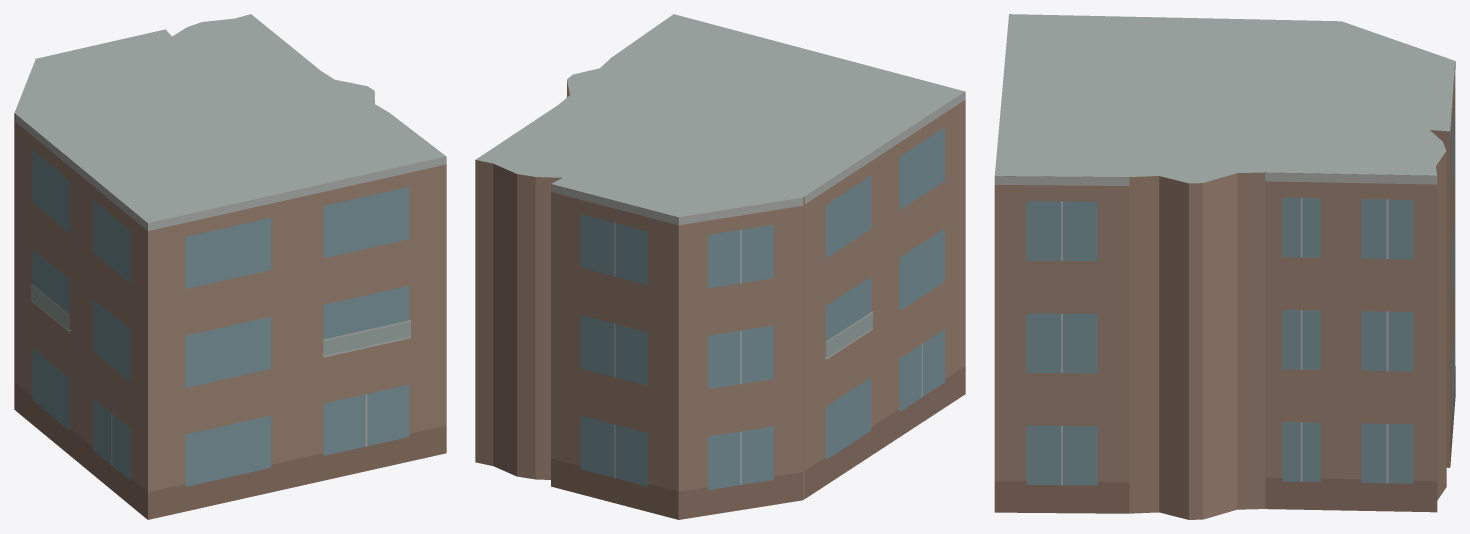
File: survey-upis-32657659.glb
The picture shows the model from 3 angles, left to right: view 1: azimuth 30°, elevation 25°; view 2: azimuth 150°, elevation 25°; view 3: azimuth 270°, elevation 25°; orthographic projection. The views are drawn at different scales.
Visible parts, largest first — view 1: survey-upis-32657659.tmp; view 2: survey-upis-32657659.tmp; view 3: survey-upis-32657659.tmp.
Boxes of the visible parts, x1,y1,x2,y2 form: survey-upis-32657659.tmp: (14,14,446,519); survey-upis-32657659.tmp: (475,14,965,519); survey-upis-32657659.tmp: (994,14,1455,519).
Bounding box in the file's own units: 9.88 × 9.15 × 11.36.
